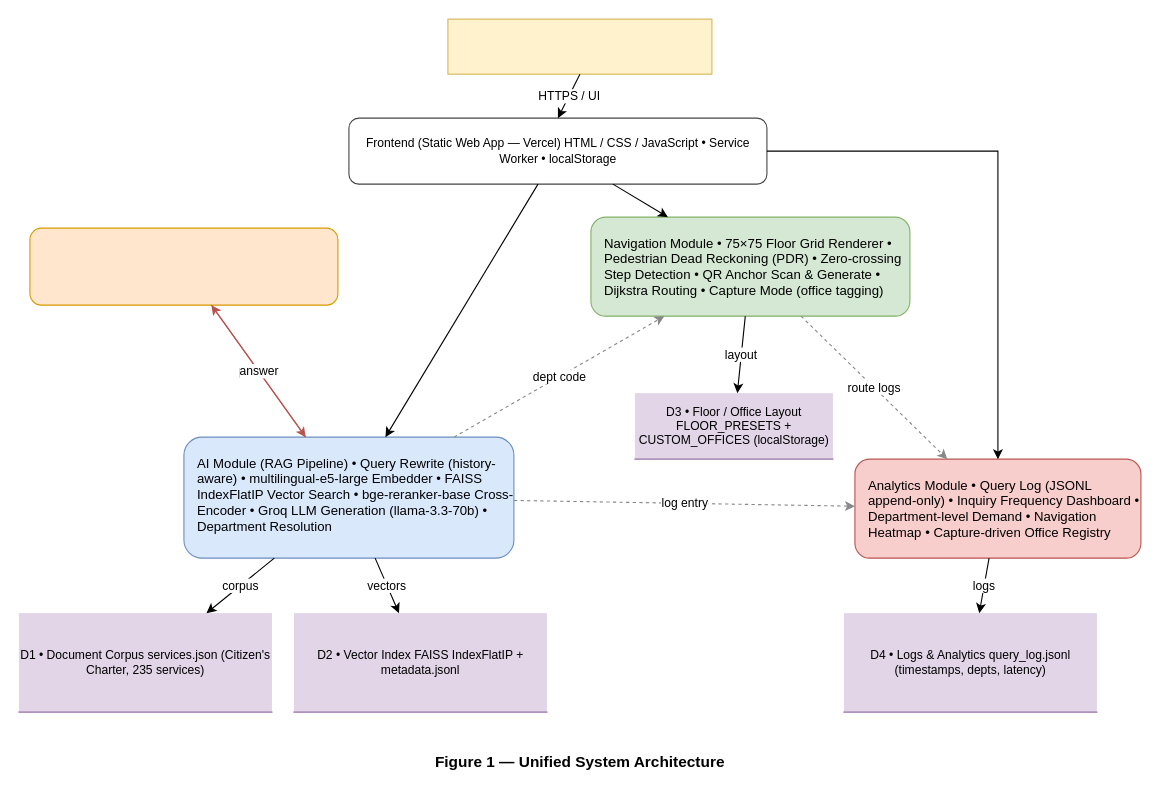
Image size: 1161x798. Some labels were removed from this diagram. The box of each missing label's shape, as (x1, y1, x2, y2) in pixels:
Citizen / Administrator (Browser on Phone or Desktop): (447, 18, 712, 74)
Groq Cloud LLM API (llama-3.3-70b-versatile) OpenAI-compatible: (29, 227, 338, 305)
